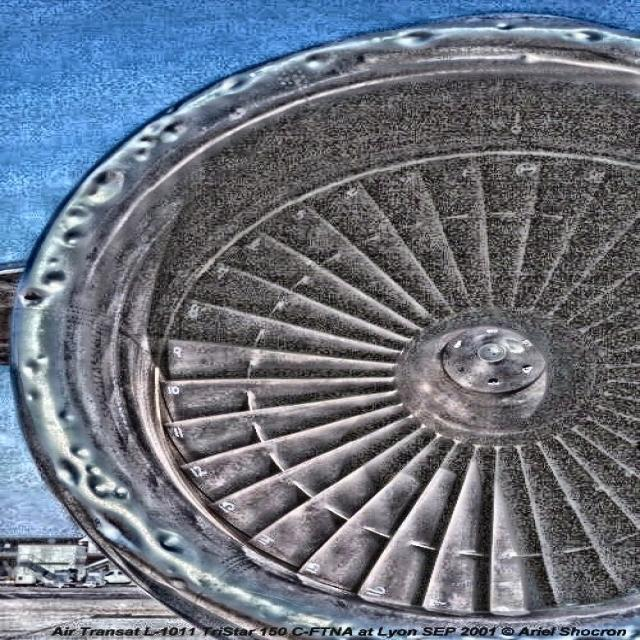dent: (56, 445, 205, 597), (74, 166, 134, 206)
